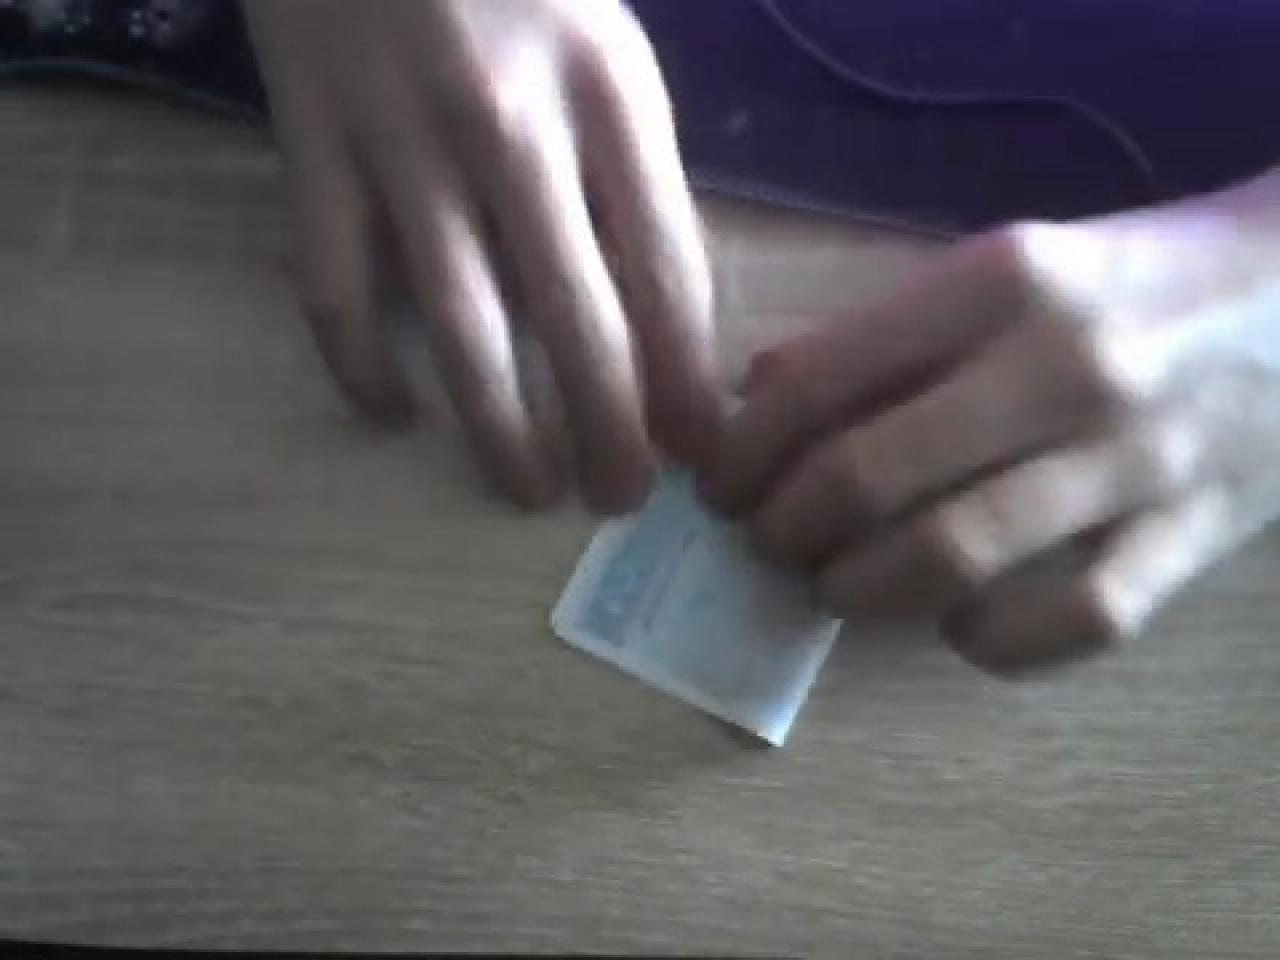20leva: (546, 475, 843, 752)
